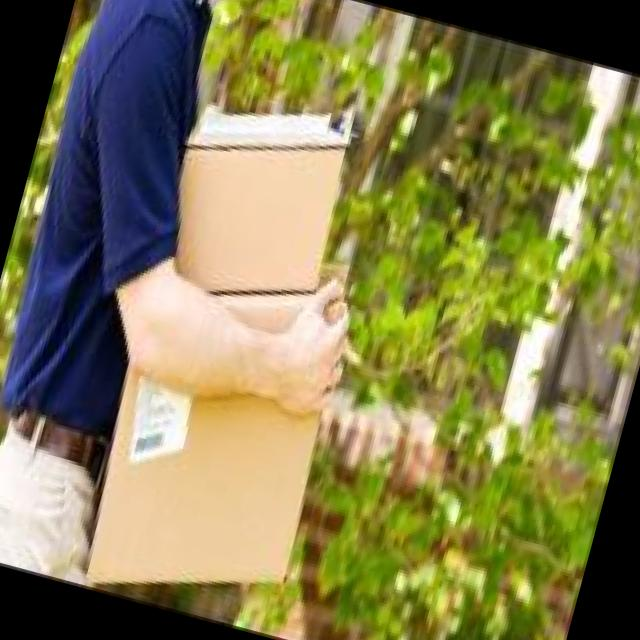box: (81, 105, 572, 595)
tear: (507, 147, 551, 317), (486, 370, 515, 436)
